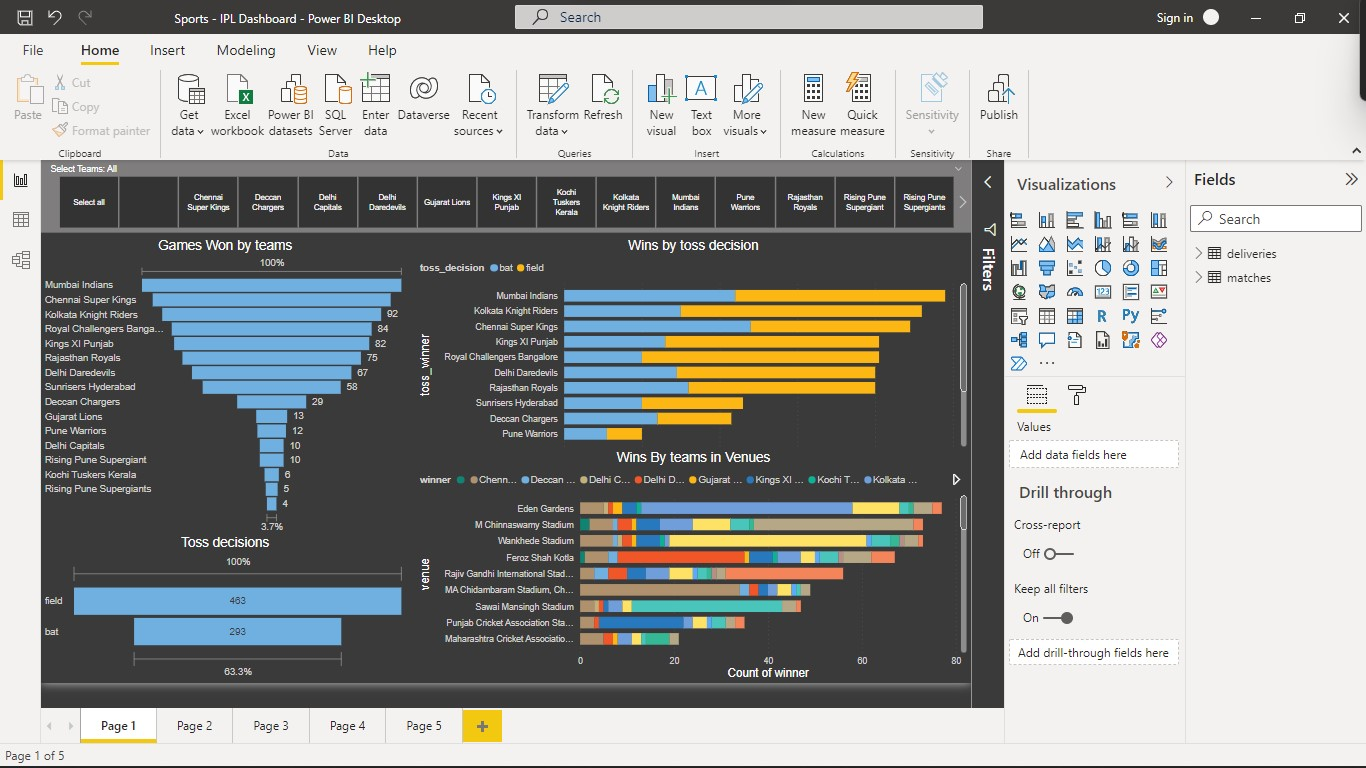

What the dashboard file says about the page in this screenshot:
{"tool":"powerbi","page":{"name":"Page 1","canvas":[1280,720],"ordinal":0},"visuals":[{"type":"funnel","title":"Games Won by teams","fields":{"Category":["matches.winner"],"Y":["Count(matches.date)"]},"box":[0,106.8,506.5,409.8],"z":0},{"type":"funnel","title":"Toss decisions","fields":{"Category":["matches.toss_decision"],"Y":["CountNonNull(matches.toss_winner)"]},"box":[0,516.6,506.5,203.4],"z":1000},{"type":"barChart","title":"Wins by toss decision","fields":{"Category":["matches.toss_winner"],"Y":["CountNonNull(matches.winner)"],"Series":["matches.toss_decision"]},"box":[516.6,106.8,763.3,327.5],"z":2000},{"type":"barChart","title":"Wins By teams in Venues","fields":{"Category":["matches.venue"],"Y":["CountNonNull(matches.winner)"],"Series":["matches.winner"]},"box":[516.6,399.7,763.3,320.3],"z":3000},{"type":"slicer","fields":{"Values":["matches.winner"]},"box":[0,0,1279.8,99.6],"z":4000}]}

Visuals, with their boxes on the page's 1280x720 design canvas (x1, y1, x2, y2). These are canvas units, not pixel positions in the 1366x768 screenshot, which may show the page scaled, cropped or inside an application window:
"Games Won by teams" funnel: box(0, 107, 506, 517)
"Toss decisions" funnel: box(0, 517, 506, 720)
"Wins by toss decision" barChart: box(517, 107, 1280, 434)
"Wins By teams in Venues" barChart: box(517, 400, 1280, 720)
slicer - matches.winner: box(0, 0, 1280, 100)
